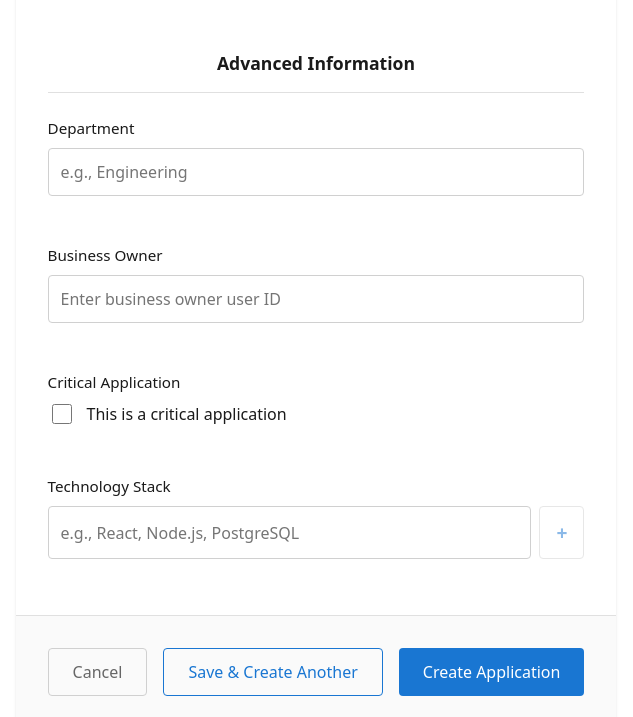
Test: ApplicationFormPage › Form Features › handles technology stack array field
This screenshot has width=633, height=717.
(page scrolled)
Note: Find the technology stack input by its placeholder
Step 1. Type "React" into the field with placeholder "e.g., React, Node.js, PostgreSQL" → (290,533), box [48,506,532,559]
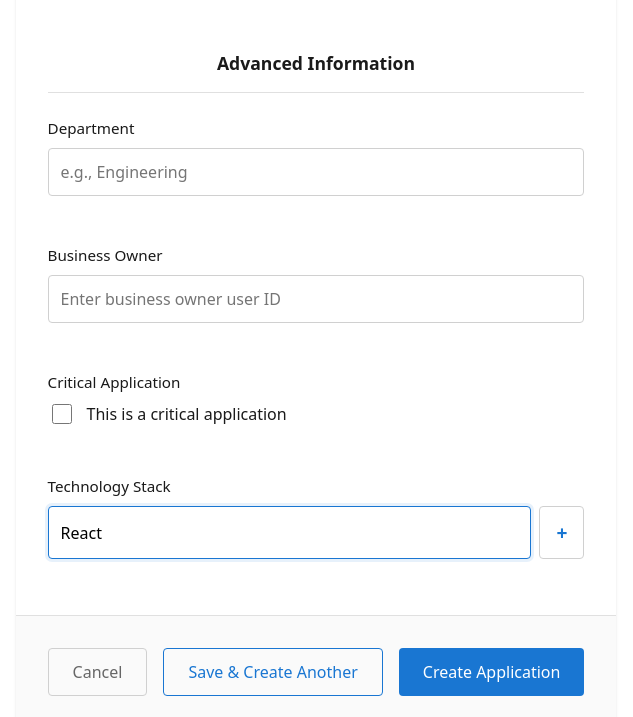
Note: Find the add button (+ button)
Step 2. Click the button "+" → (562,533), box [540,506,584,559]
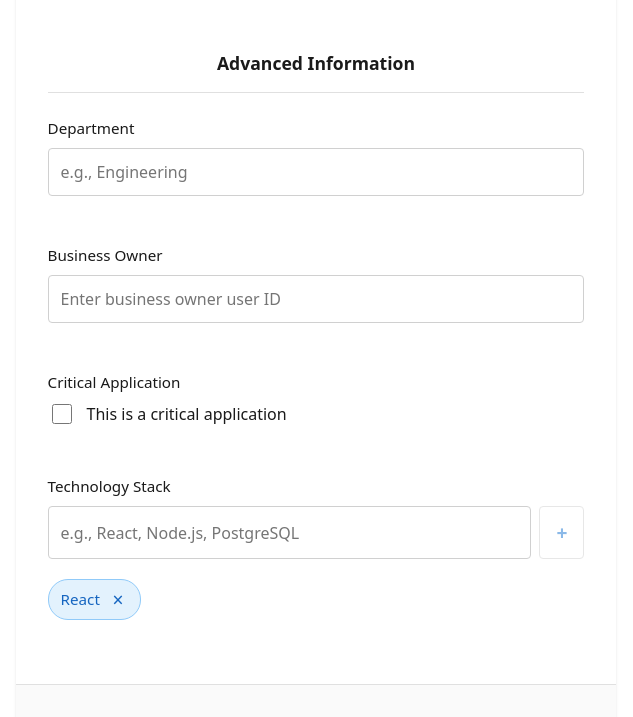
Now the text "React" is shown, box [61,588,100,611]
